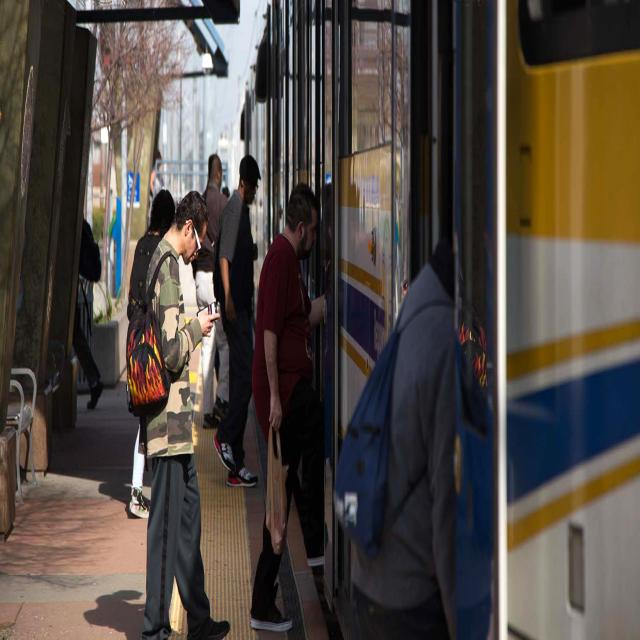body: (333, 216, 458, 640), (124, 184, 233, 639), (249, 180, 325, 634), (126, 188, 175, 520), (213, 152, 261, 489), (188, 151, 238, 435), (72, 216, 106, 411), (380, 197, 399, 315), (149, 149, 165, 199)
